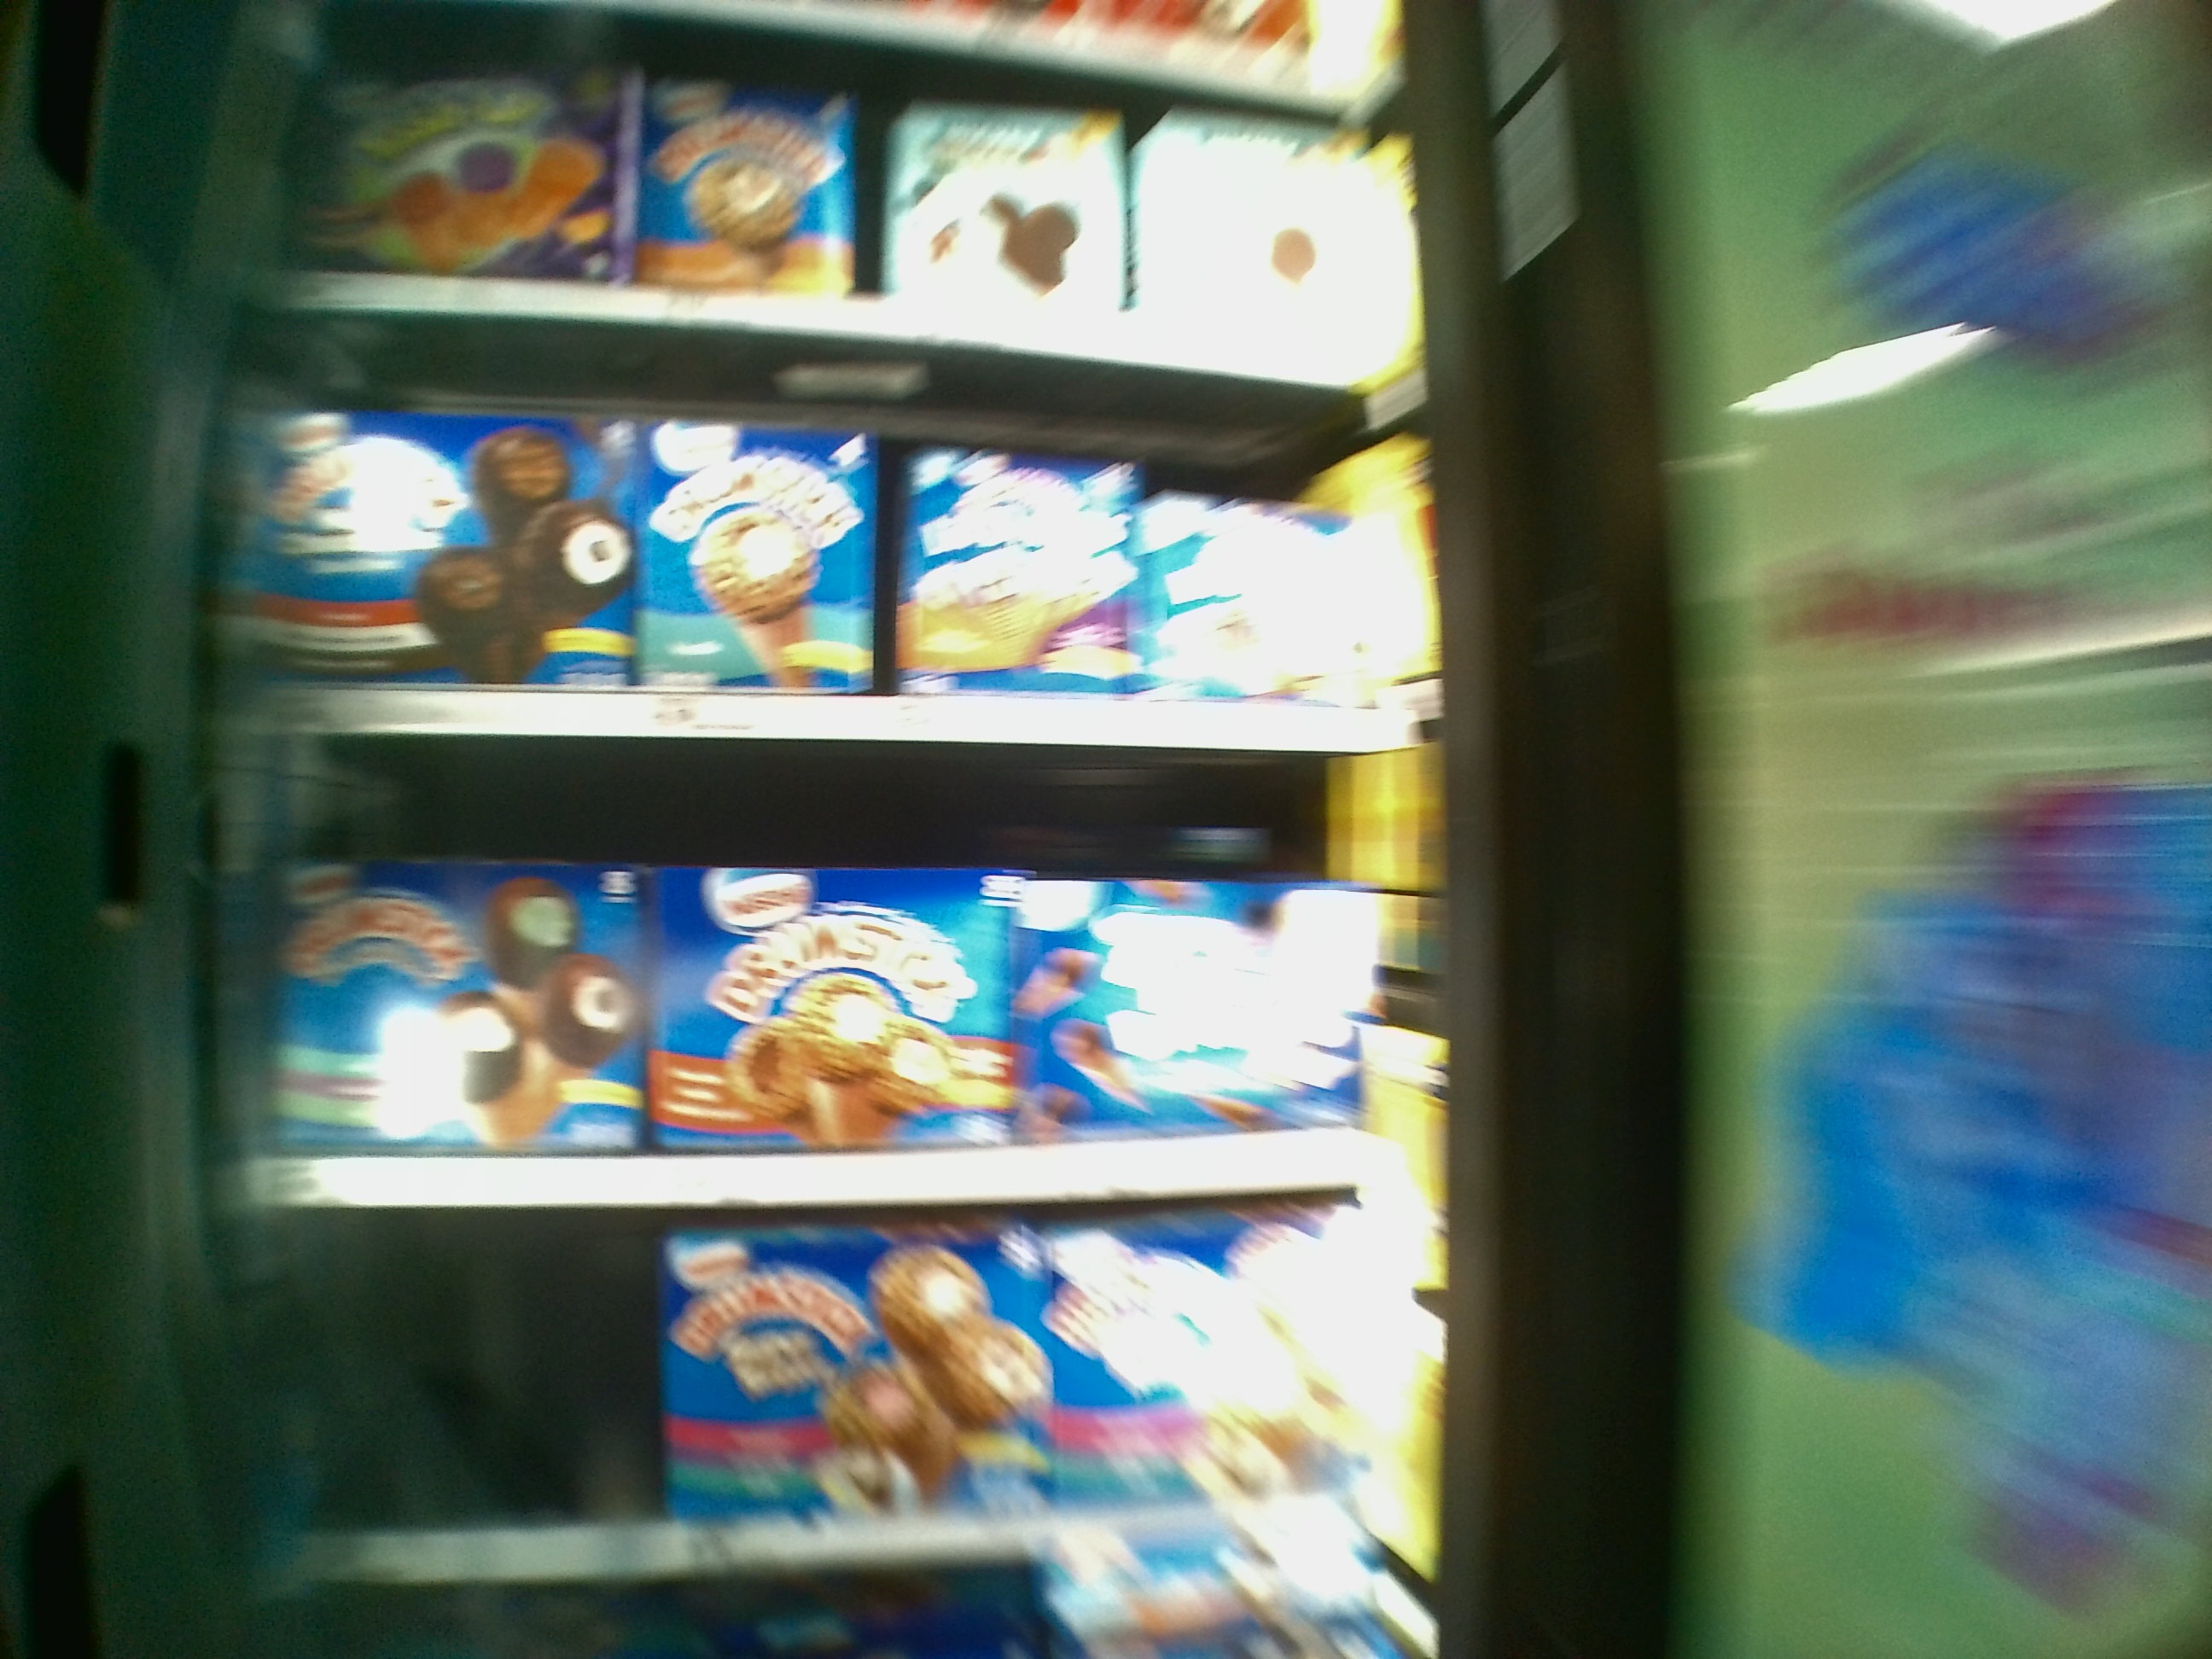shelf: (244, 756, 1418, 1208), (235, 342, 1407, 746), (265, 1211, 1430, 1570)
